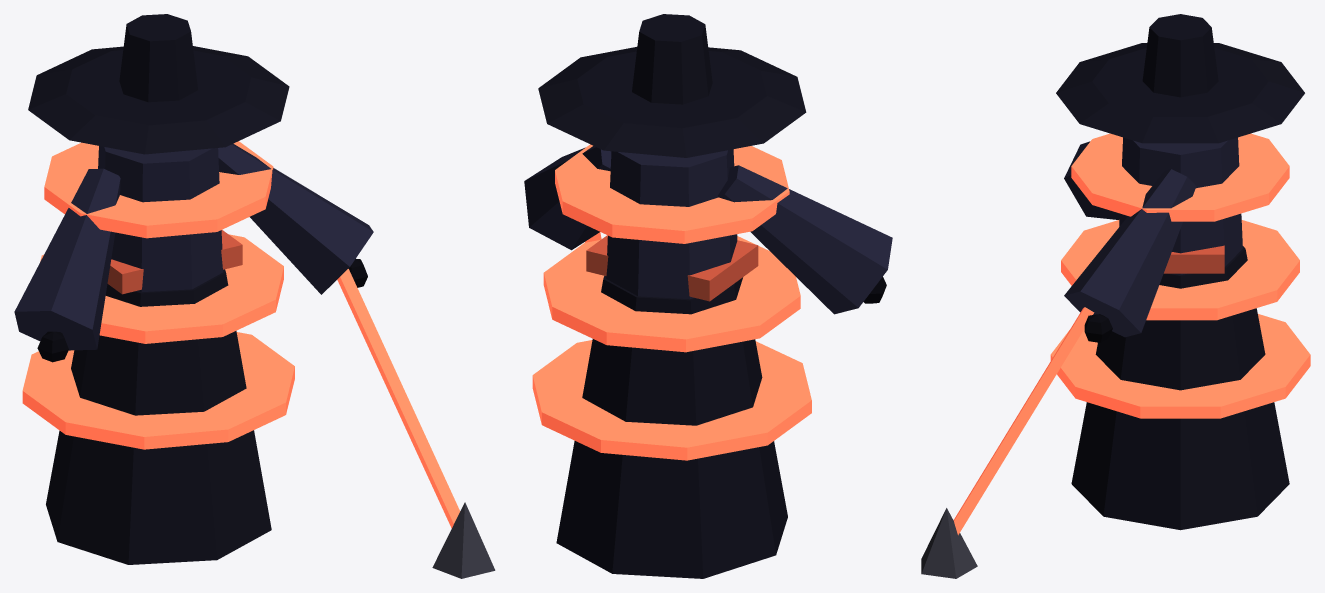
File: boss_b04_heugwol.glb
The picture shows the model from 3 angles, left to right: view 1: azimuth 30°, elevation 25°; view 2: azimuth 150°, elevation 25°; view 3: azimuth 270°, elevation 25°; orthographic projection. The views are drawn at different scales.
Visible parts, largest first — view 1: boss_b04_heugwol; view 2: boss_b04_heugwol; view 3: boss_b04_heugwol.
Boxes of the visible parts, bbox=[...] form: boss_b04_heugwol: bbox=[14, 14, 495, 578]; boss_b04_heugwol: bbox=[524, 14, 892, 578]; boss_b04_heugwol: bbox=[921, 14, 1310, 578].
Bounding box in the file's own units: 1.6 × 1.94 × 1.5.
